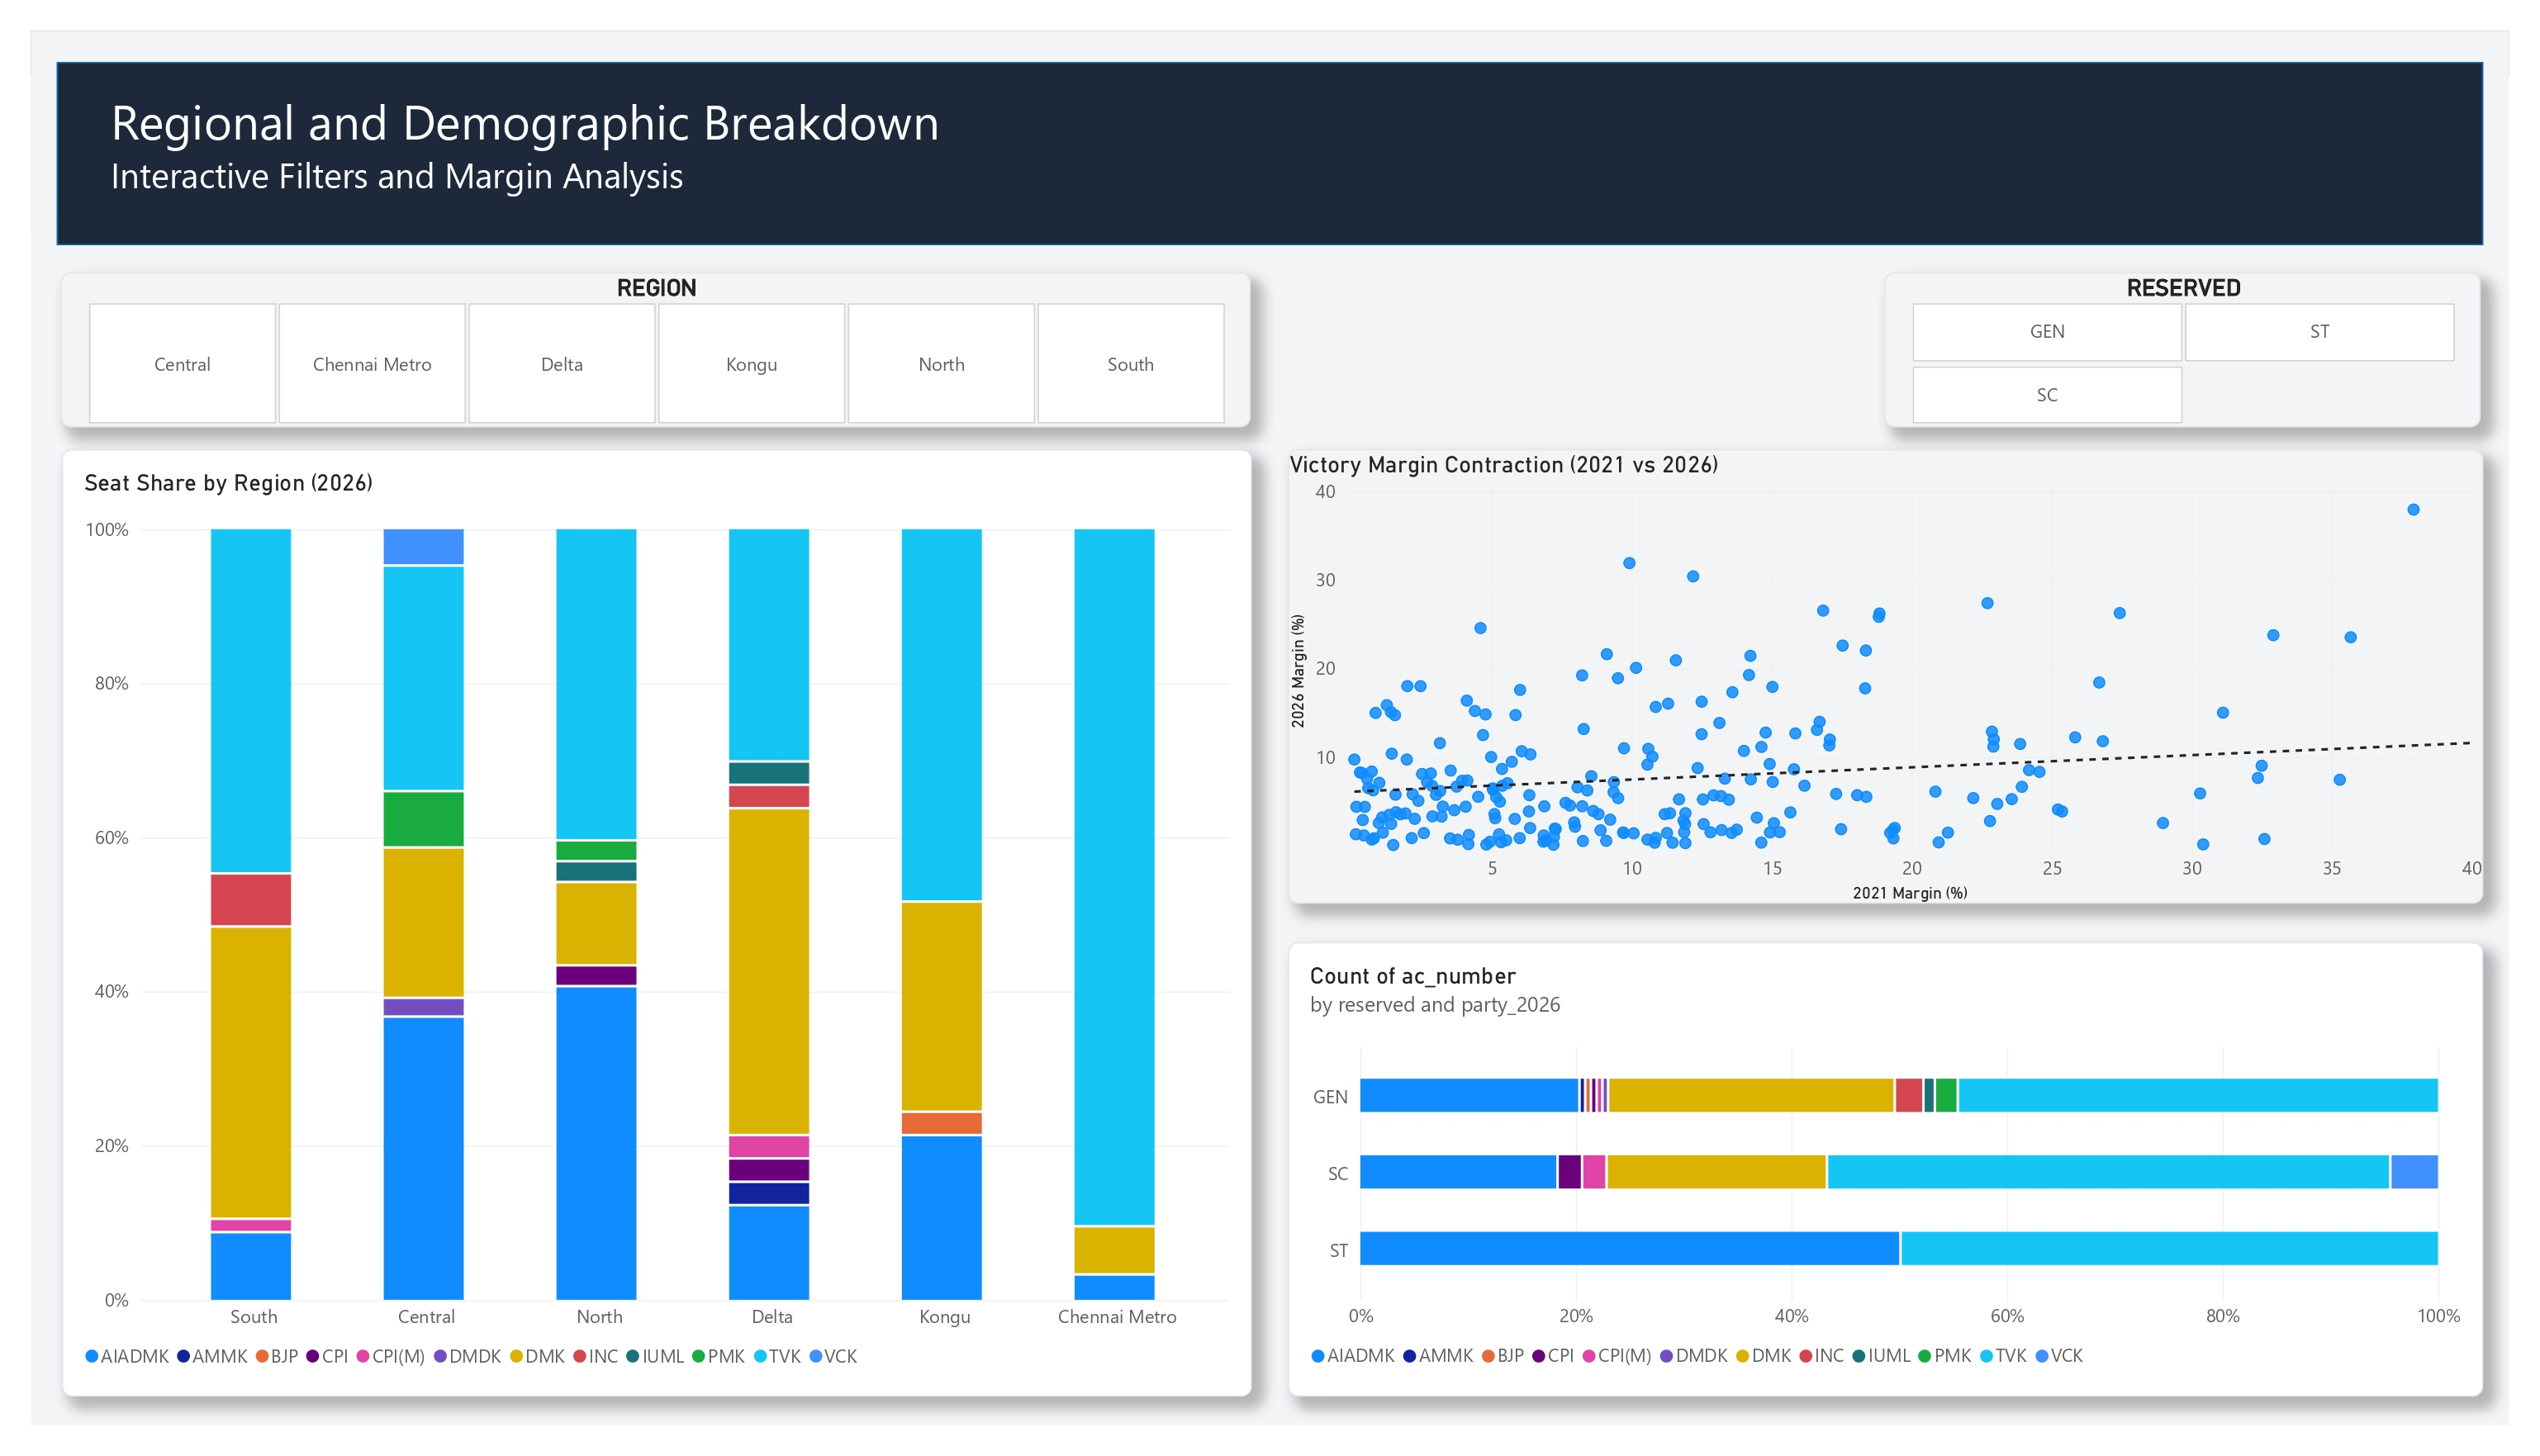

The dashboard page shown, as its layout file describes it:
{"tool":"powerbi","page":{"name":"Region & Demographic Fractures","canvas":[1920,1080],"ordinal":1},"visuals":[{"type":"slicer","title":"RESERVED","fields":{"Values":["powerbi_seat_flips.reserved"]},"box":[1436.2,187.2,462.2,120.3],"z":1000},{"type":"hundredPercentStackedColumnChart","title":"Seat Share by Region (2026)","fields":{"Category":["powerbi_seat_flips.region"],"Series":["powerbi_seat_flips.party_2026"],"Y":["CountNonNull(powerbi_seat_flips.ac_number)"]},"box":[24,324,922,734],"z":2000},{"type":"hundredPercentStackedBarChart","fields":{"Category":["powerbi_seat_flips.reserved"],"Series":["powerbi_seat_flips.party_2026"],"Y":["CountNonNull(powerbi_seat_flips.ac_number)"]},"box":[974,706,926,352],"z":3000},{"type":"scatterChart","title":"Victory Margin Contraction (2021 vs 2026)","fields":{"Category":["powerbi_margins.constituency"],"X":["Sum(powerbi_margins.margin_pct_2021)"],"Y":["Sum(powerbi_margins.margin_pct_2026)"]},"box":[974,324,926,352],"z":4000},{"type":"shape","box":[20,24,1880,142],"z":5000},{"type":"textbox","box":[20,25,1880,142.5],"z":6000},{"type":"slicer","title":"REGION","fields":{"Values":["powerbi_margins.region"]},"box":[23.3,186.7,921.7,120],"z":6002}]}

Visuals, with their boxes on the page's 1920x1080 design canvas (x1, y1, x2, y2). These are canvas units, not pixel positions in the 2540x1456 screenshot, which may show the page scaled, cropped or inside an application window:
"RESERVED" slicer: box(1436, 187, 1898, 308)
"Seat Share by Region (2026)" hundredPercentStackedColumnChart: box(24, 324, 946, 1058)
hundredPercentStackedBarChart - powerbi_seat_flips.reserved x powerbi_seat_flips.party_2026: box(974, 706, 1900, 1058)
"Victory Margin Contraction (2021 vs 2026)" scatterChart: box(974, 324, 1900, 676)
shape: box(20, 24, 1900, 166)
textbox: box(20, 25, 1900, 168)
"REGION" slicer: box(23, 187, 945, 307)
